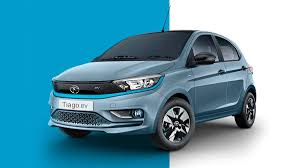Tiago: (42, 28, 259, 151)
